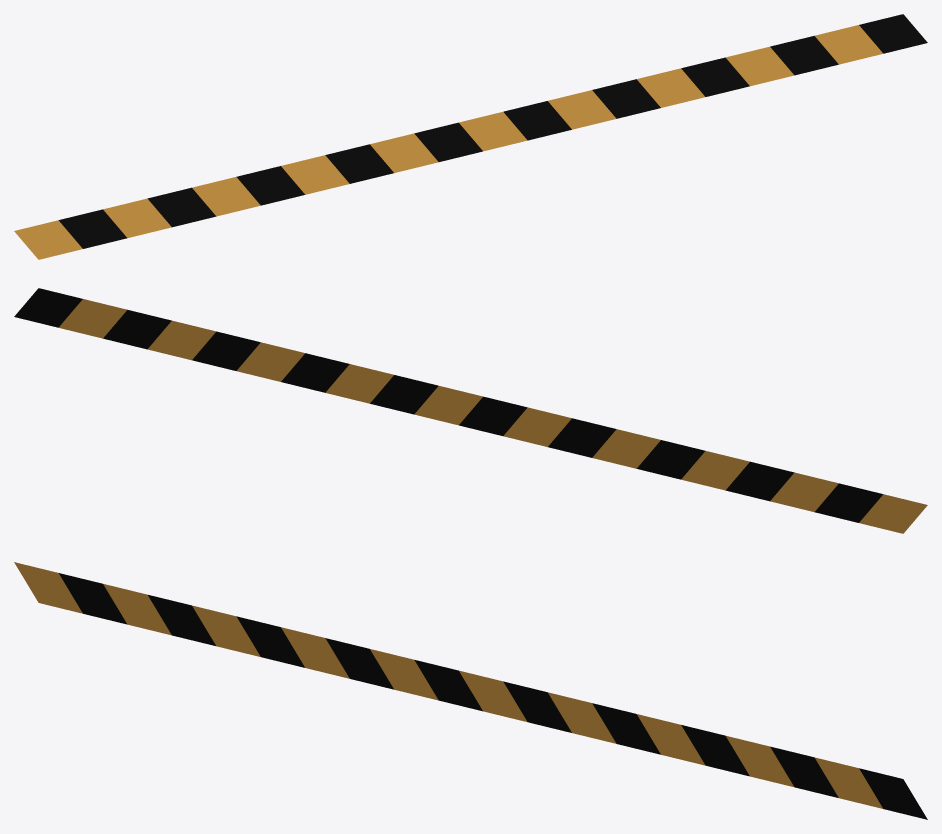
File: FenceStripe.fbx
3 views of the same model, one above another, from view 1: azimuth 30°, elevation 25°; view 2: azimuth 150°, elevation 25°; view 3: azimuth 330°, elevation 25° (orthographic).
Visible parts, largest first — view 1: FenceStripe; view 2: FenceStripe; view 3: FenceStripe.
Boxes of the visible parts, x1,y1,x2,y2 form: FenceStripe: (14, 14, 927, 259); FenceStripe: (14, 288, 927, 533); FenceStripe: (14, 562, 927, 819).
Size of the model in its own units: 822 by 30 by 0.
